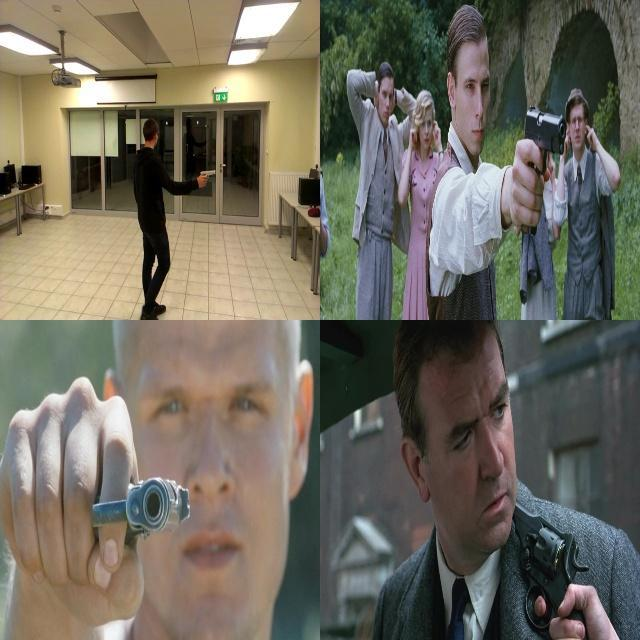gun-knife-thesis - v11 Yolov5 augmented: (504, 497, 586, 623), (85, 467, 193, 552), (524, 102, 564, 201), (195, 167, 215, 189)
